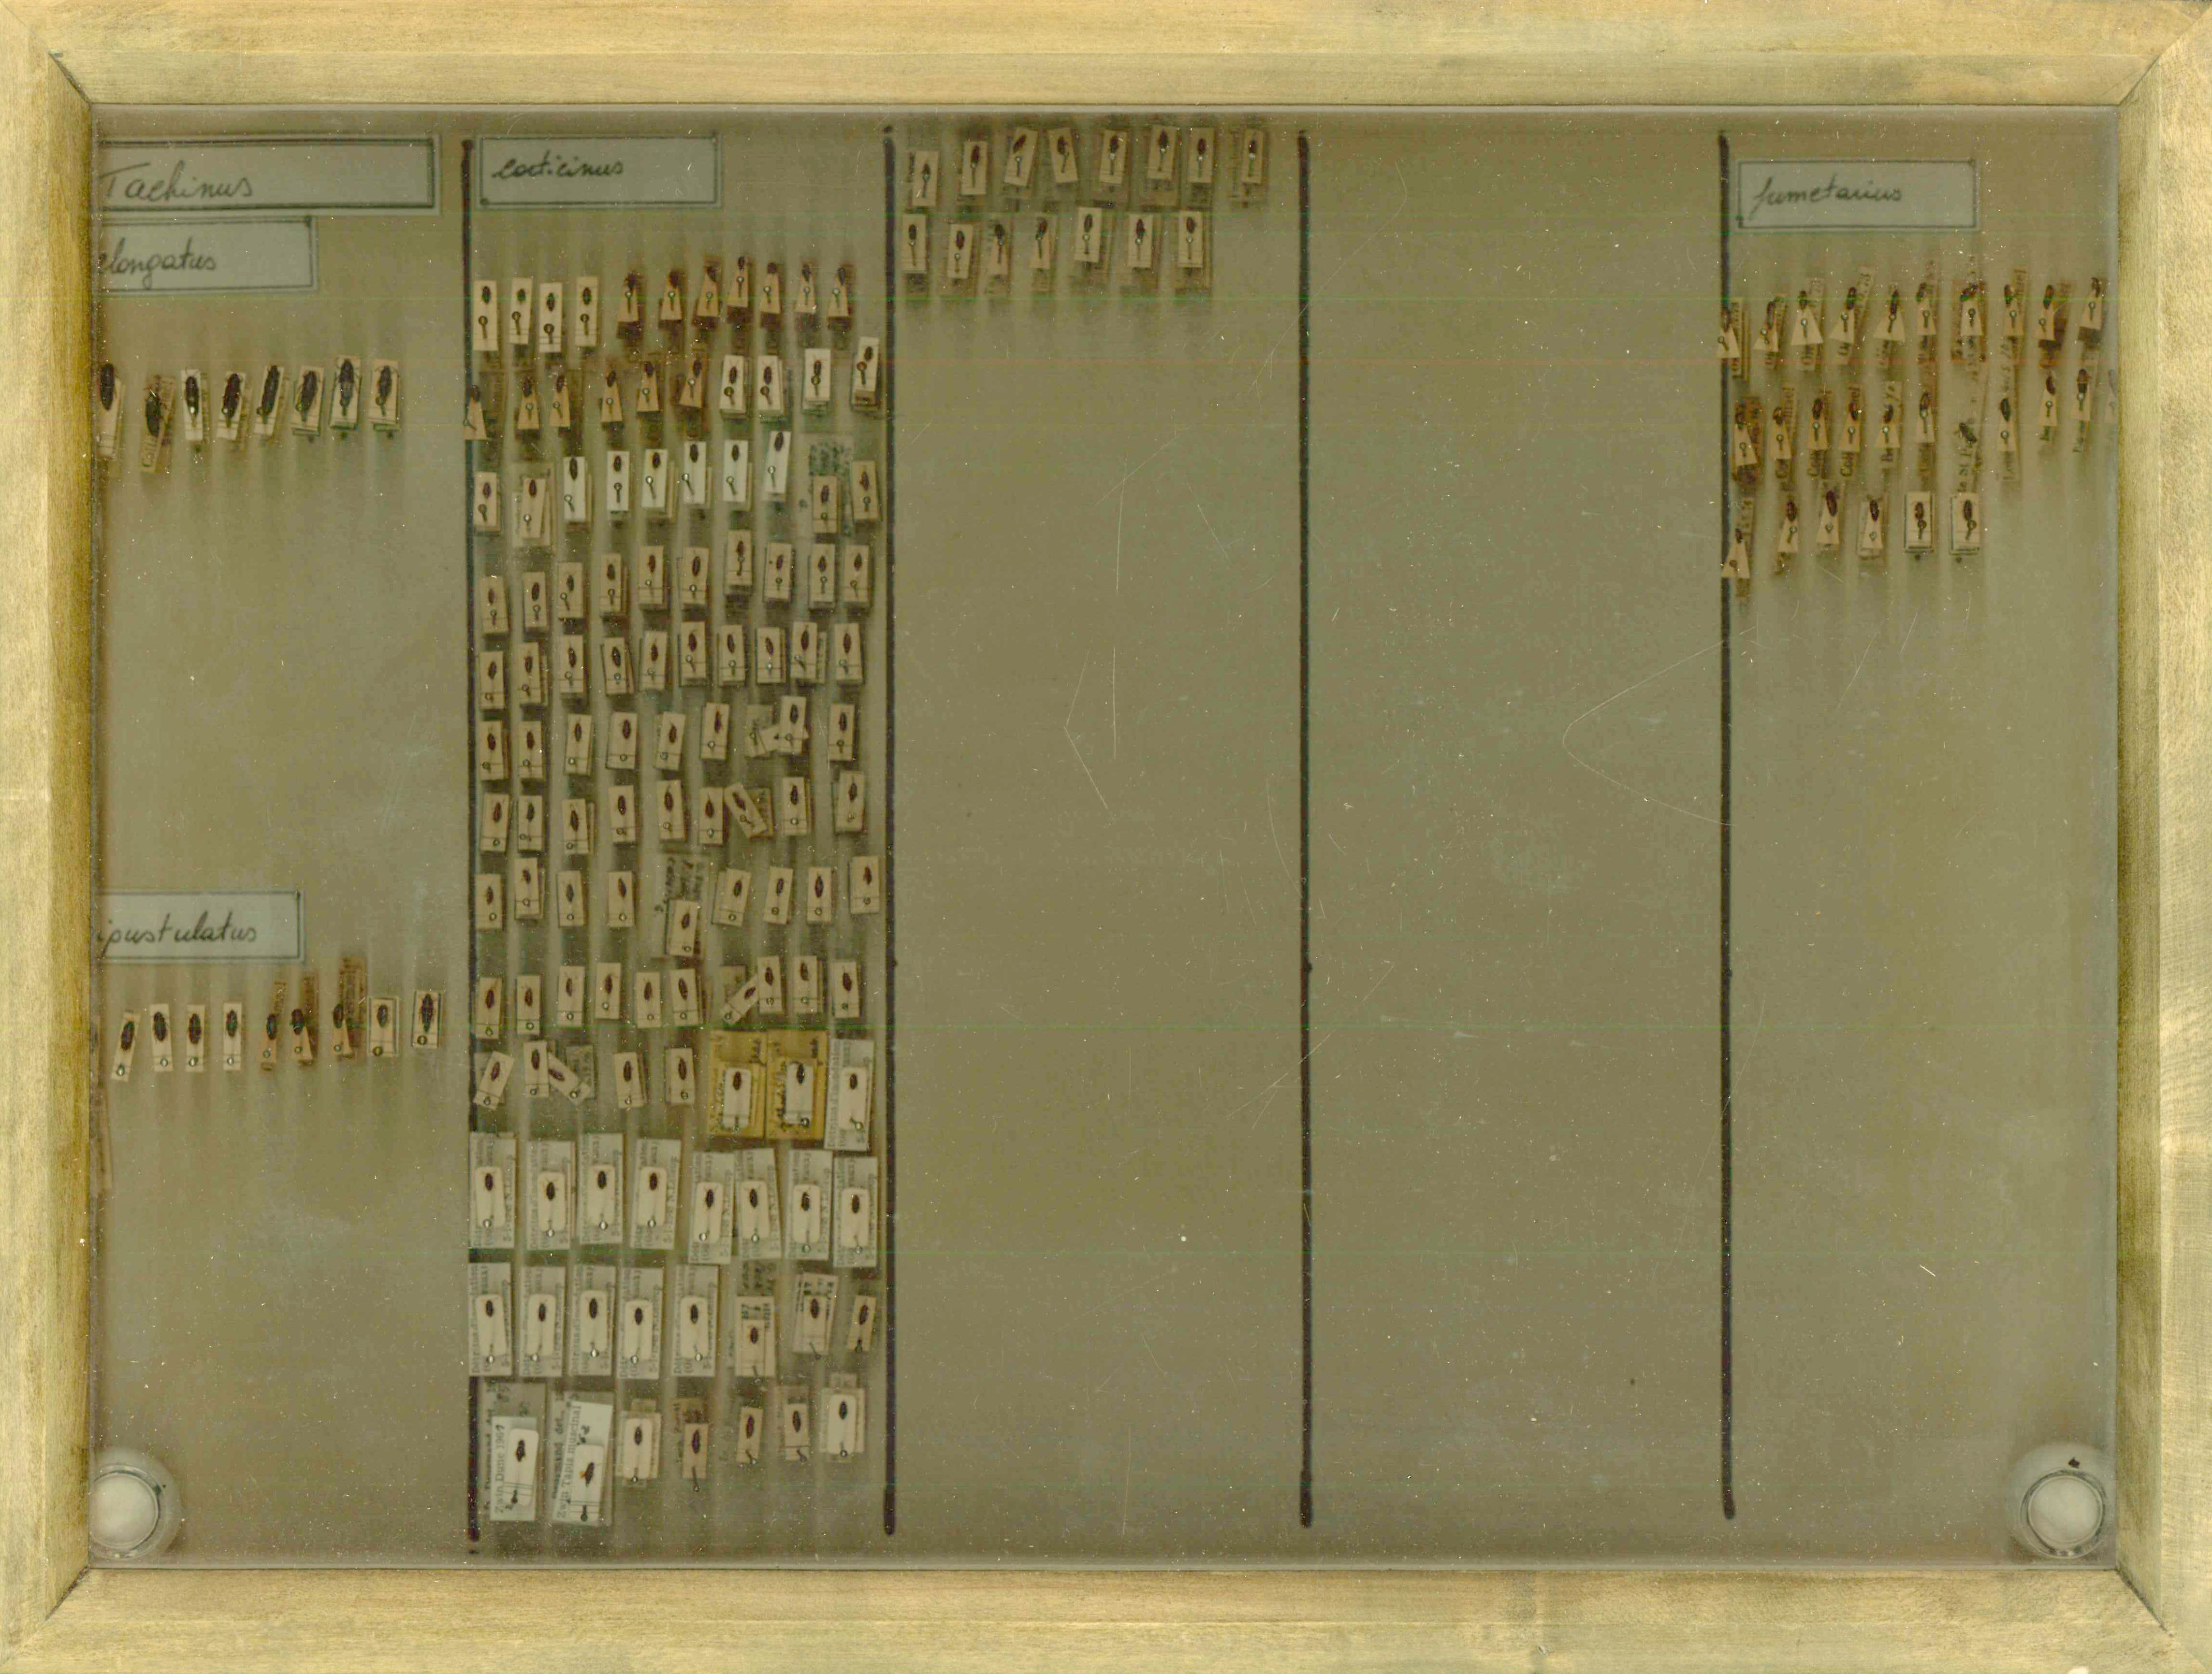insect: (93, 360, 120, 415), (258, 364, 281, 415), (332, 357, 359, 401), (141, 390, 164, 440), (181, 366, 200, 415), (373, 364, 397, 399), (417, 992, 436, 1030), (299, 369, 317, 410), (149, 1009, 171, 1039), (2071, 364, 2092, 394), (582, 1294, 603, 1322), (2038, 283, 2059, 311), (185, 1013, 202, 1046), (222, 375, 237, 410), (120, 1020, 137, 1052), (478, 1168, 498, 1196), (835, 967, 855, 995), (744, 1185, 763, 1212), (288, 1008, 306, 1036), (710, 703, 724, 739), (760, 359, 777, 387), (1714, 304, 1732, 332), (1913, 387, 1936, 408), (698, 1185, 717, 1210), (264, 1013, 280, 1043), (644, 1169, 661, 1196), (489, 798, 506, 825), (760, 631, 777, 658), (542, 1175, 557, 1203), (591, 1168, 612, 1189), (798, 1185, 814, 1213), (640, 974, 656, 1002), (520, 983, 536, 1011), (482, 983, 498, 1011), (615, 874, 629, 906), (702, 791, 717, 819), (484, 726, 499, 754), (686, 628, 702, 656), (856, 466, 872, 494), (1957, 281, 1978, 302), (1823, 489, 1839, 517), (2001, 281, 2019, 306), (1846, 397, 1864, 422), (482, 879, 496, 909), (846, 775, 860, 805), (566, 805, 580, 835), (2106, 368, 2121, 397), (797, 626, 812, 652), (1885, 287, 1901, 313), (2091, 271, 2106, 297), (1734, 403, 1750, 429), (1997, 396, 2013, 422), (730, 1069, 747, 1092), (730, 790, 747, 812), (1809, 397, 1827, 420), (1959, 420, 1976, 443), (580, 1459, 594, 1488), (621, 1057, 635, 1085), (673, 1055, 688, 1083), (705, 258, 719, 287), (1765, 299, 1779, 327), (225, 1008, 237, 1039), (375, 1004, 390, 1029), (482, 1296, 498, 1321), (761, 962, 777, 986), (561, 974, 577, 999), (563, 568, 578, 593), (603, 556, 619, 580), (2041, 371, 2057, 396), (331, 1002, 345, 1029), (547, 1067, 568, 1085), (614, 790, 628, 816), (619, 716, 633, 742), (1009, 132, 1027, 153), (1771, 404, 1788, 426), (731, 872, 744, 902), (812, 870, 825, 900), (571, 716, 584, 746), (568, 455, 580, 485), (478, 285, 494, 308), (513, 285, 529, 308), (1034, 218, 1050, 241), (688, 1301, 702, 1326), (680, 904, 693, 932), (862, 860, 874, 888), (788, 781, 802, 805), (524, 728, 538, 753), (723, 631, 737, 656), (608, 644, 622, 668), (816, 482, 830, 506), (1050, 134, 1067, 153), (631, 1305, 647, 1326), (728, 441, 744, 462), (809, 353, 825, 375), (833, 262, 849, 283), (992, 223, 1008, 244), (904, 222, 920, 243), (515, 1438, 528, 1465), (689, 1428, 702, 1454), (789, 1408, 802, 1435), (675, 976, 688, 1002), (603, 969, 615, 995), (563, 877, 575, 904), (522, 797, 535, 823), (840, 630, 853, 656), (564, 644, 577, 670), (647, 549, 659, 575), (691, 550, 703, 577), (726, 357, 739, 383), (528, 1048, 542, 1071), (797, 958, 811, 981), (666, 721, 680, 744), (733, 533, 747, 556), (542, 290, 556, 313), (666, 266, 680, 288), (1915, 281, 1929, 304), (1880, 401, 1894, 424), (1867, 498, 1881, 520), (1783, 499, 1797, 522), (663, 781, 673, 811), (651, 635, 661, 665), (848, 1192, 865, 1210), (535, 1298, 547, 1322), (795, 1062, 807, 1087), (520, 375, 533, 399), (1846, 285, 1859, 309), (846, 1071, 860, 1092), (484, 659, 498, 681), (485, 586, 499, 607), (578, 283, 593, 304), (1245, 135, 1259, 156), (856, 1303, 869, 1326), (809, 1298, 821, 1321), (489, 1059, 501, 1081), (774, 549, 786, 571), (816, 552, 828, 575), (688, 441, 700, 464), (552, 373, 564, 396), (691, 355, 703, 378), (862, 339, 874, 362), (774, 872, 784, 899), (747, 1326, 761, 1345), (744, 983, 758, 1002), (468, 383, 482, 403), (642, 359, 656, 378), (621, 271, 635, 290), (1106, 134, 1120, 153), (1155, 128, 1169, 148), (1134, 216, 1148, 236), (789, 702, 800, 726), (529, 580, 542, 601), (774, 429, 784, 454), (800, 262, 812, 283), (1183, 213, 1196, 234), (955, 229, 967, 250), (1799, 288, 1811, 309), (1961, 498, 1973, 519), (735, 251, 749, 269), (1081, 213, 1095, 230), (522, 651, 533, 673), (631, 1426, 644, 1445), (519, 863, 531, 883), (851, 552, 863, 571), (612, 454, 624, 473), (920, 158, 932, 178), (969, 144, 981, 164), (746, 1414, 754, 1440), (837, 1400, 848, 1421), (837, 712, 848, 733), (651, 450, 661, 471), (765, 260, 779, 276), (528, 480, 540, 498), (1913, 501, 1925, 519), (1732, 526, 1744, 543), (480, 480, 491, 499), (605, 368, 615, 387), (1196, 137, 1208, 149)
